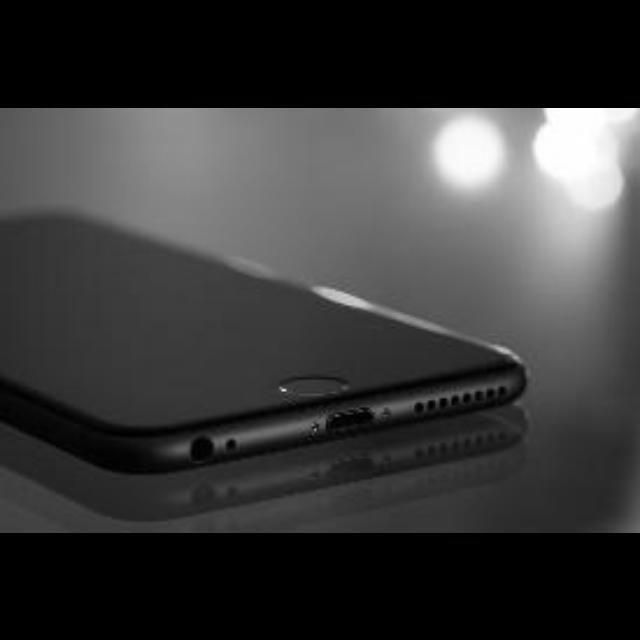fake: (3, 170, 541, 514)
